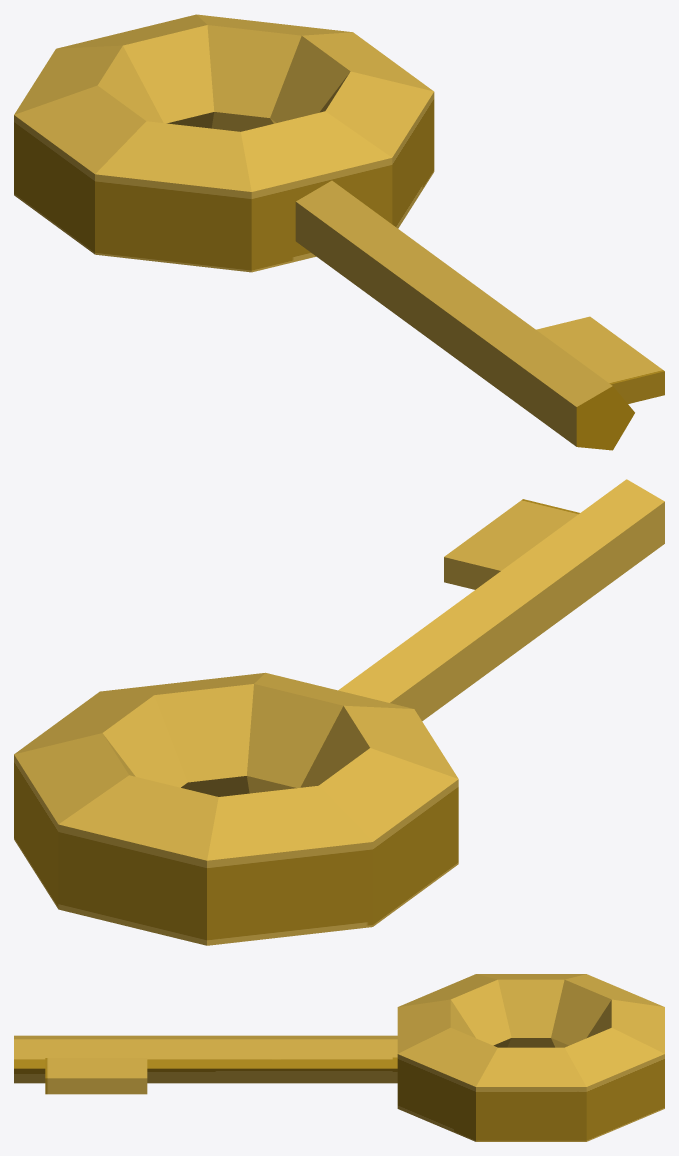
The model's file is key.fbx.
3 renders of one model, top to bottom at view 1: azimuth 30°, elevation 25°; view 2: azimuth 150°, elevation 25°; view 3: azimuth 270°, elevation 25°, orthographic. The views are drawn at different scales.
Parts seen in each view (by area): view 1: pCube2; view 2: pCube2; view 3: pCube2.
Part boxes in pixels (x1,y1,x2,y2): pCube2: (14, 14, 664, 450); pCube2: (14, 479, 664, 945); pCube2: (14, 974, 664, 1141).
Bounding box in the file's own units: 1.96 × 0.7178 × 4.77.
